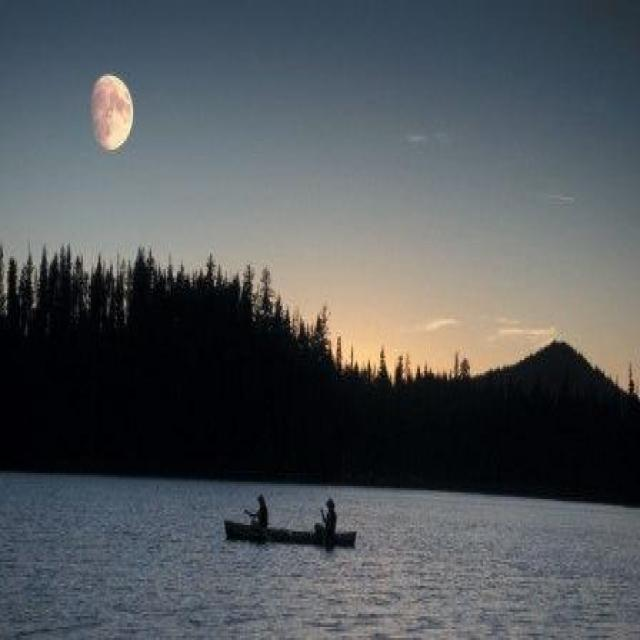Boat: (202, 479, 375, 591)
